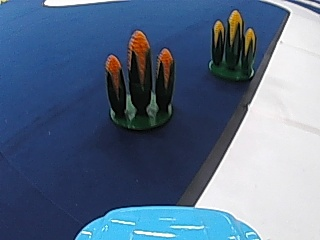corn: (102, 32, 179, 131), (206, 8, 258, 80)
